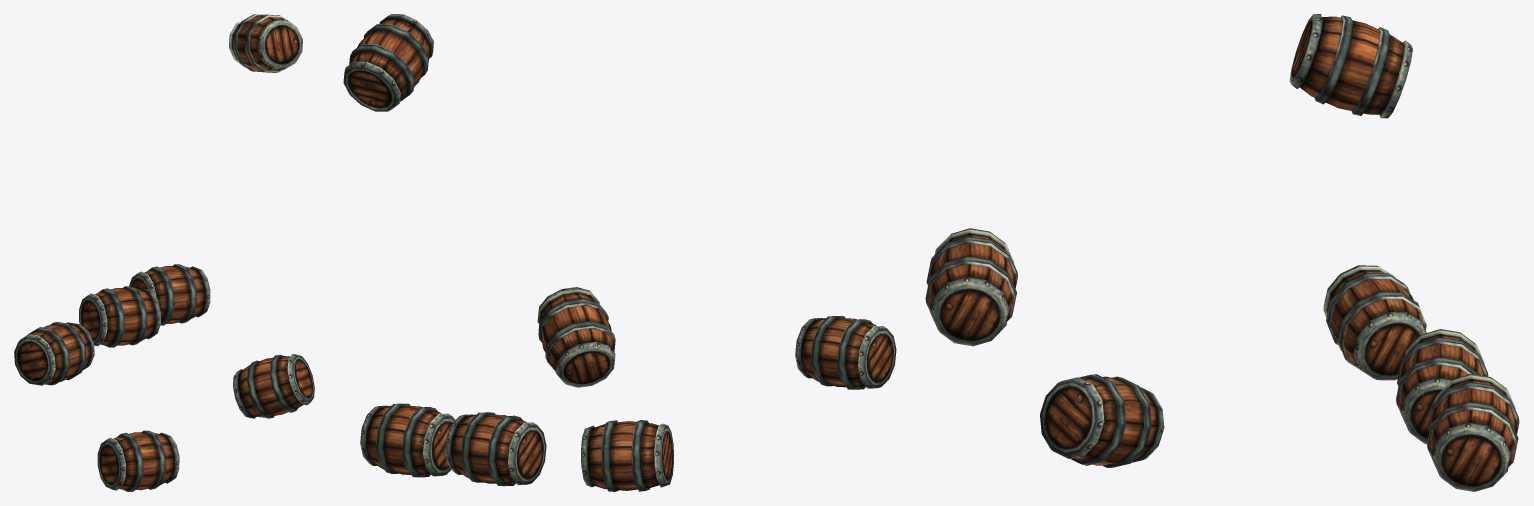
File: PUSH10_BARRELS.fbx
3 views of the same model, side by side, from view 1: azimuth 30°, elevation 25°; view 2: azimuth 150°, elevation 25°; view 3: azimuth 270°, elevation 25° (orthographic). The views are drawn at different scales.
Visible parts, largest first — view 1: PUSH10_BARRELS; view 2: PUSH10_BARRELS; view 3: PUSH10_BARRELS.
Part boxes in pixels (box(x1,y1,x2,y2)): PUSH10_BARRELS: box(14, 14, 314, 491); PUSH10_BARRELS: box(343, 14, 896, 491); PUSH10_BARRELS: box(925, 14, 1519, 491).
Size of the model in its own units: 46873 by 47854 by 50827.
2 materials, 2 textured.
